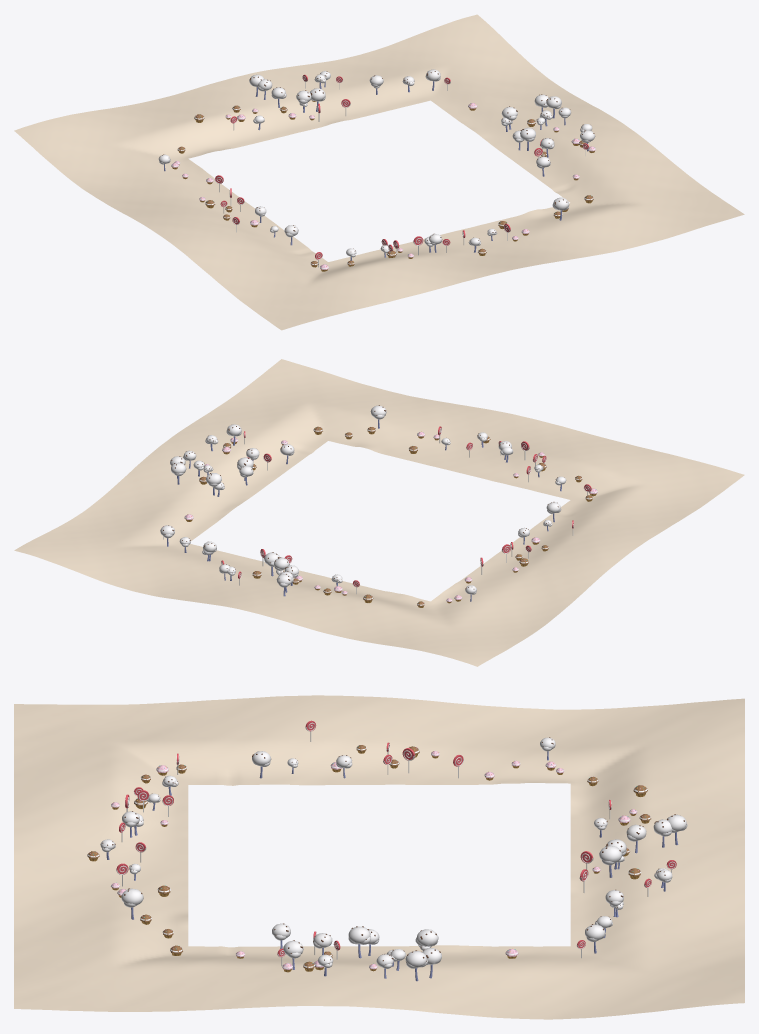
The model's file is GingerbreadVillage_Background.fbx.
3 views of the same model, one above another, from view 1: azimuth 30°, elevation 25°; view 2: azimuth 150°, elevation 25°; view 3: azimuth 270°, elevation 25° (orthographic). The views are drawn at different scales.
Visible parts, largest first — view 1: GIN_Terrain_Decor; view 2: GIN_Terrain_Decor; view 3: GIN_Terrain_Decor.
Part boxes in pixels (<box>): GIN_Terrain_Decor: <box>14,14,744,330</box>; GIN_Terrain_Decor: <box>14,359,744,666</box>; GIN_Terrain_Decor: <box>14,695,744,1019</box>.
Size of the model in its own units: 650 by 41.71 by 650.
